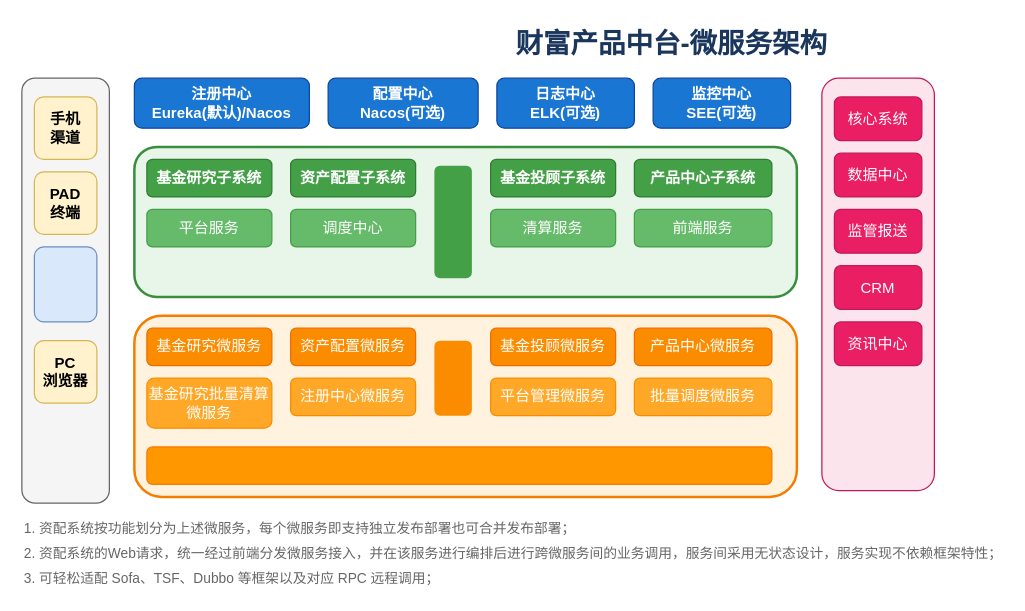
The diagram is 1025 pixels wide and 611 high, and some of its shapes have lost their labels. Each missing label, with the centre of its shape:
"Spring Cloud Gateway" goes at point 65,284.
"业 务 中 心" goes at point 452,221.
"前端分发微服务" goes at point 459,465.
"微 服 务" goes at point 452,377.
